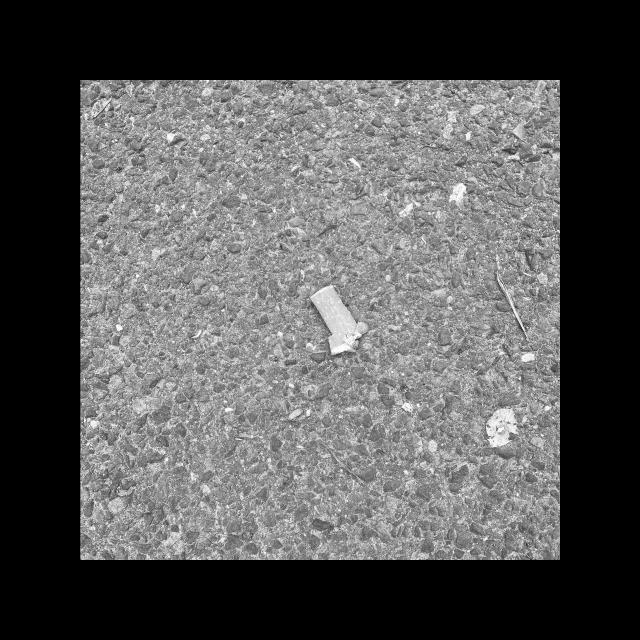cigarette: (309, 285, 369, 355)
